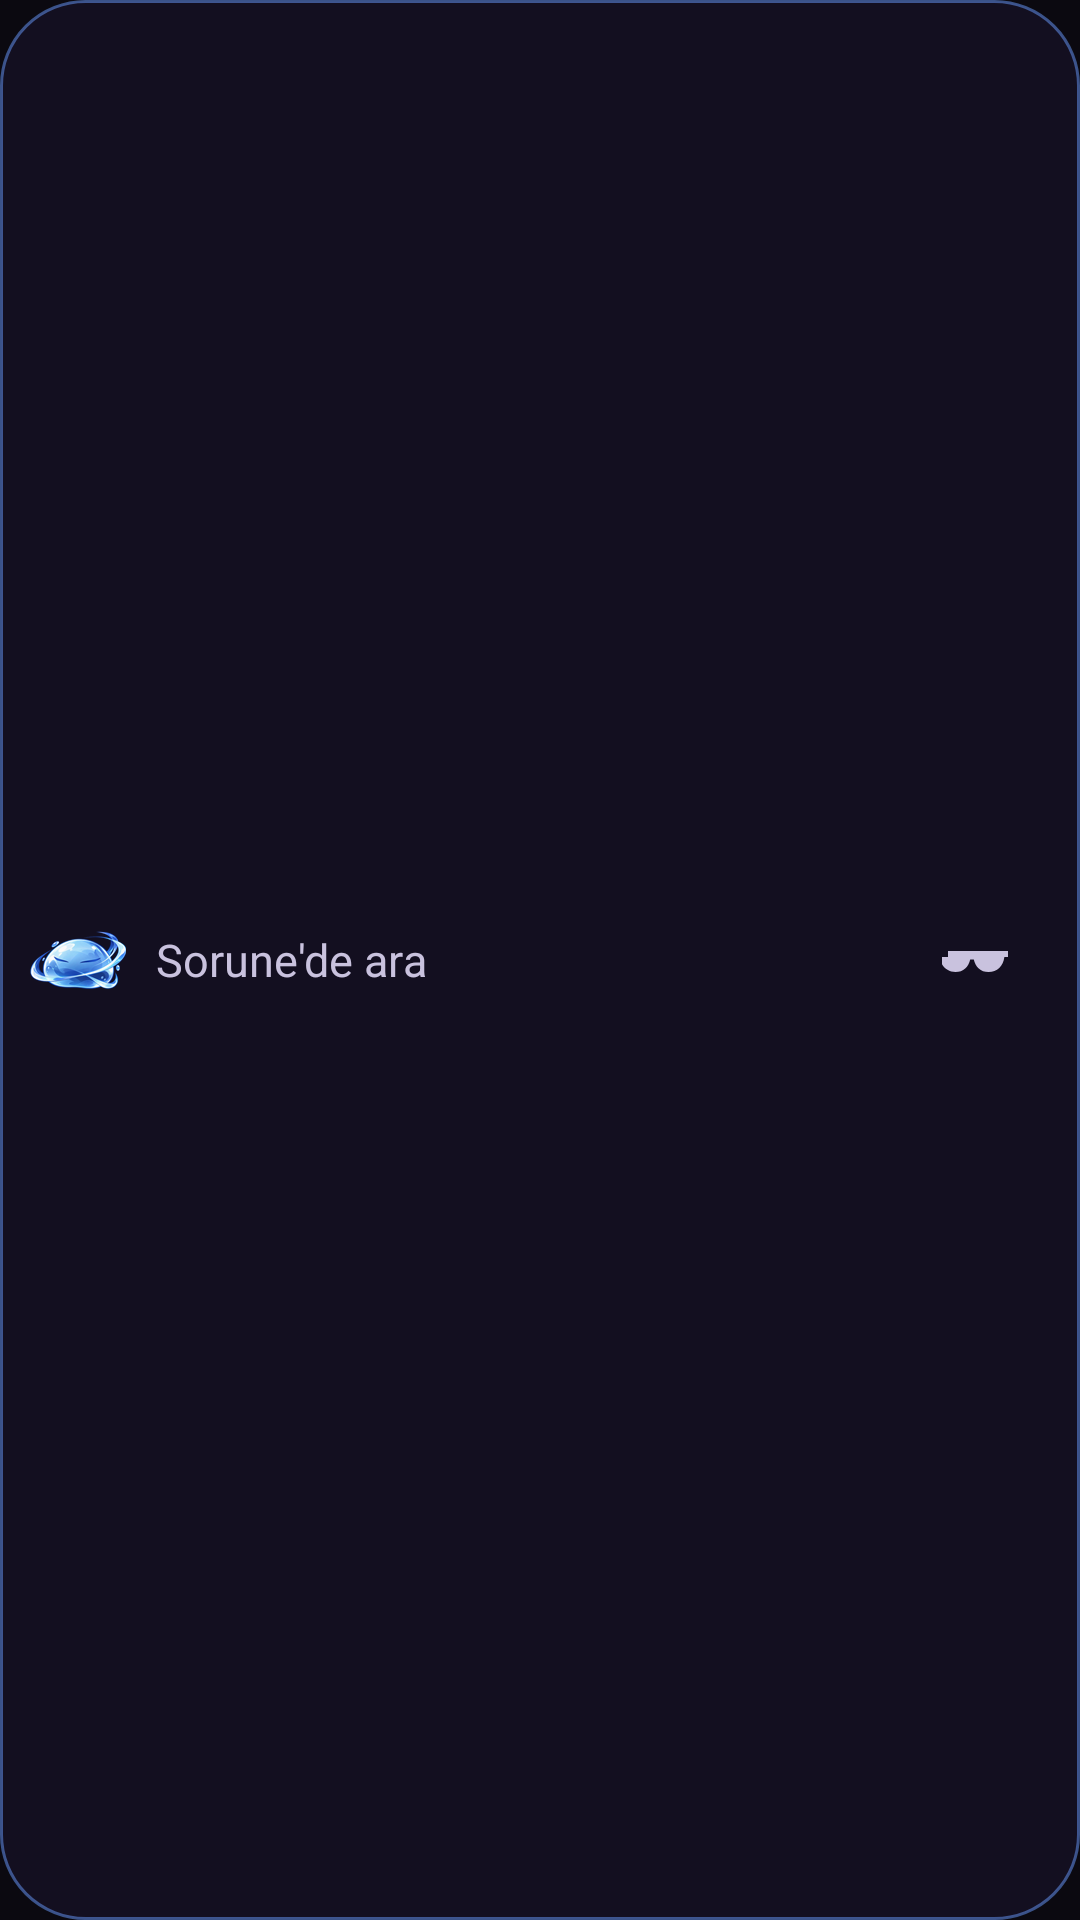

Icons on this 1080*1920 Android screen, each with its box as (x1, y1, x2, y2):
Gizli sekme: (942, 951, 1008, 972)
